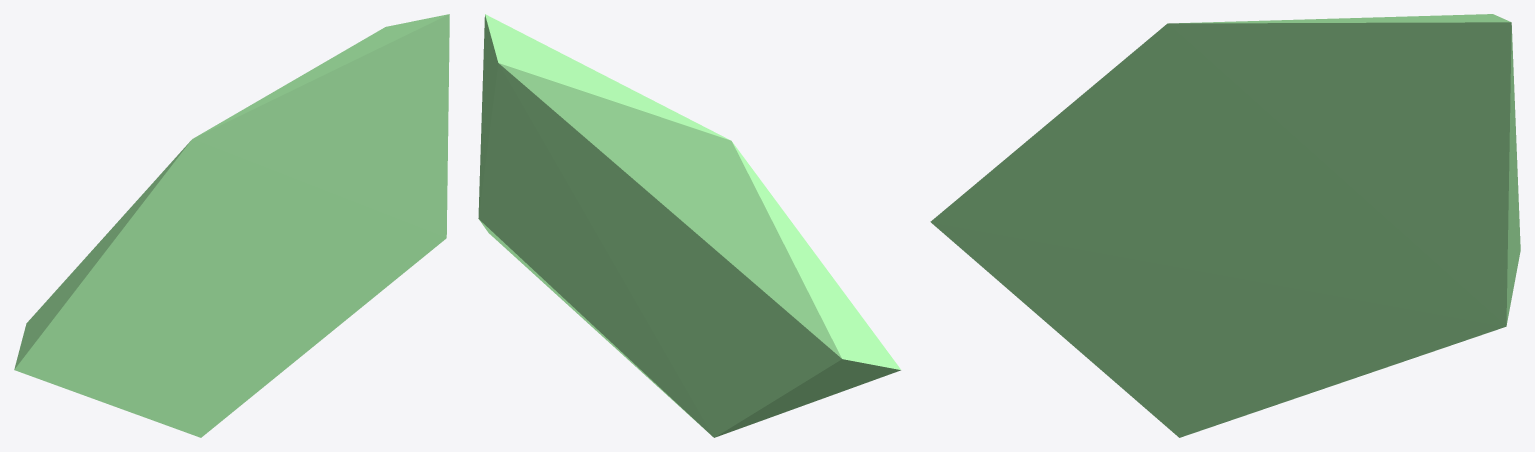
File: linkhou_LR4_R560_link2_respondable_coll_27.dae
3 renders of one model, left to right at view 1: azimuth 30°, elevation 25°; view 2: azimuth 150°, elevation 25°; view 3: azimuth 330°, elevation 25°, orthographic. The views are drawn at different scales.
Visible parts, largest first — view 1: Node_00000209DB3A9E60; view 2: Node_00000209DB3A9E60; view 3: Node_00000209DB3A9E60.
Part boxes in pixels (x1,y1,x2,y2): Node_00000209DB3A9E60: [14, 14, 449, 437]; Node_00000209DB3A9E60: [478, 14, 900, 437]; Node_00000209DB3A9E60: [930, 14, 1520, 437].
Size of the model in its own units: 0.07 by 0.0569 by 0.00836.
